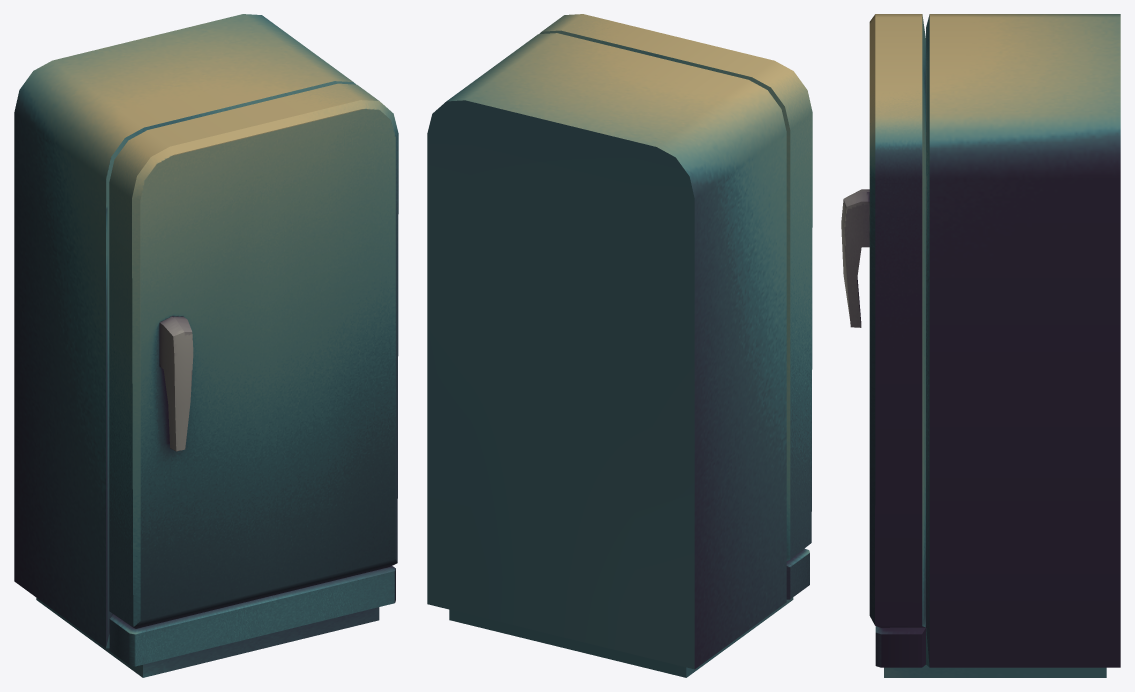
Rendered from Fridge.glb.
3 views of the same model, side by side, from view 1: azimuth 30°, elevation 25°; view 2: azimuth 150°, elevation 25°; view 3: azimuth 270°, elevation 25° (orthographic). The views are drawn at different scales.
Visible parts, largest first — view 1: Fridge_door, Fridge_body; view 2: Fridge_body, Fridge_door; view 3: Fridge_body, Fridge_door.
Part boxes in pixels (left/top/right/bottom): Fridge_door: left=109, top=83, right=398, bottom=628; Fridge_body: left=14, top=14, right=395, bottom=677; Fridge_body: left=427, top=33, right=809, bottom=677; Fridge_door: left=539, top=14, right=812, bottom=560; Fridge_body: left=875, top=14, right=1120, bottom=677; Fridge_door: left=841, top=14, right=925, bottom=627.
Size of the model in its own units: 1.03 by 1.95 by 0.8953.
1 material, 1 textured.
